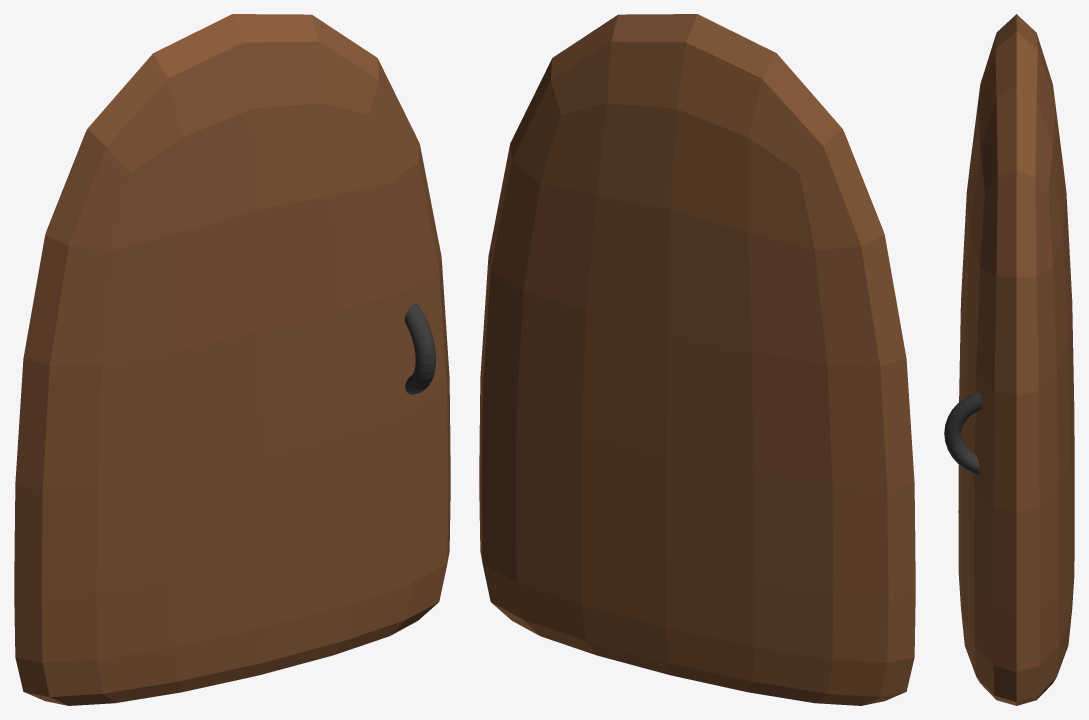
Rendered from door.fbx.
3 renders of one model, left to right at view 1: azimuth 30°, elevation 25°; view 2: azimuth 150°, elevation 25°; view 3: azimuth 270°, elevation 25°, orthographic. The views are drawn at different scales.
Parts seen in each view (by area): view 1: door, door_knob; view 2: door; view 3: door, door_knob.
Boxes of the visible parts, left/top/right/bottom form: door: left=14, top=14, right=450, bottom=705; door_knob: left=404, top=303, right=435, bottom=394; door: left=479, top=14, right=915, bottom=705; door: left=958, top=14, right=1074, bottom=705; door_knob: left=944, top=392, right=981, bottom=474.
Bounding box in the file's own units: 330 × 466 × 92.68.
